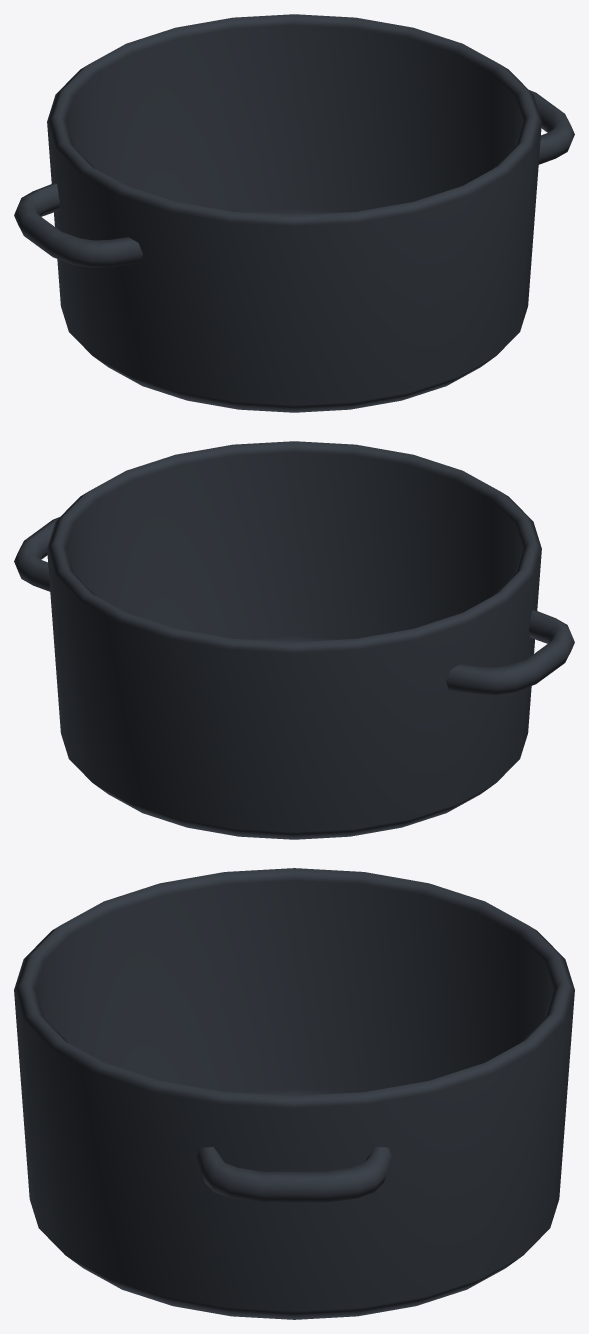
File: CookingPot.fbx
The picture shows the model from 3 angles, top to bottom: view 1: azimuth 30°, elevation 25°; view 2: azimuth 150°, elevation 25°; view 3: azimuth 270°, elevation 25°; orthographic projection. The views are drawn at different scales.
Visible parts, largest first — view 1: CookingPot; view 2: CookingPot; view 3: CookingPot.
Part boxes in pixels (x1,y1,x2,y2): CookingPot: (14,14,574,412); CookingPot: (14,441,574,839); CookingPot: (14,868,574,1319).
Bounding box in the file's own units: 58.09 × 22.16 × 47.97.
